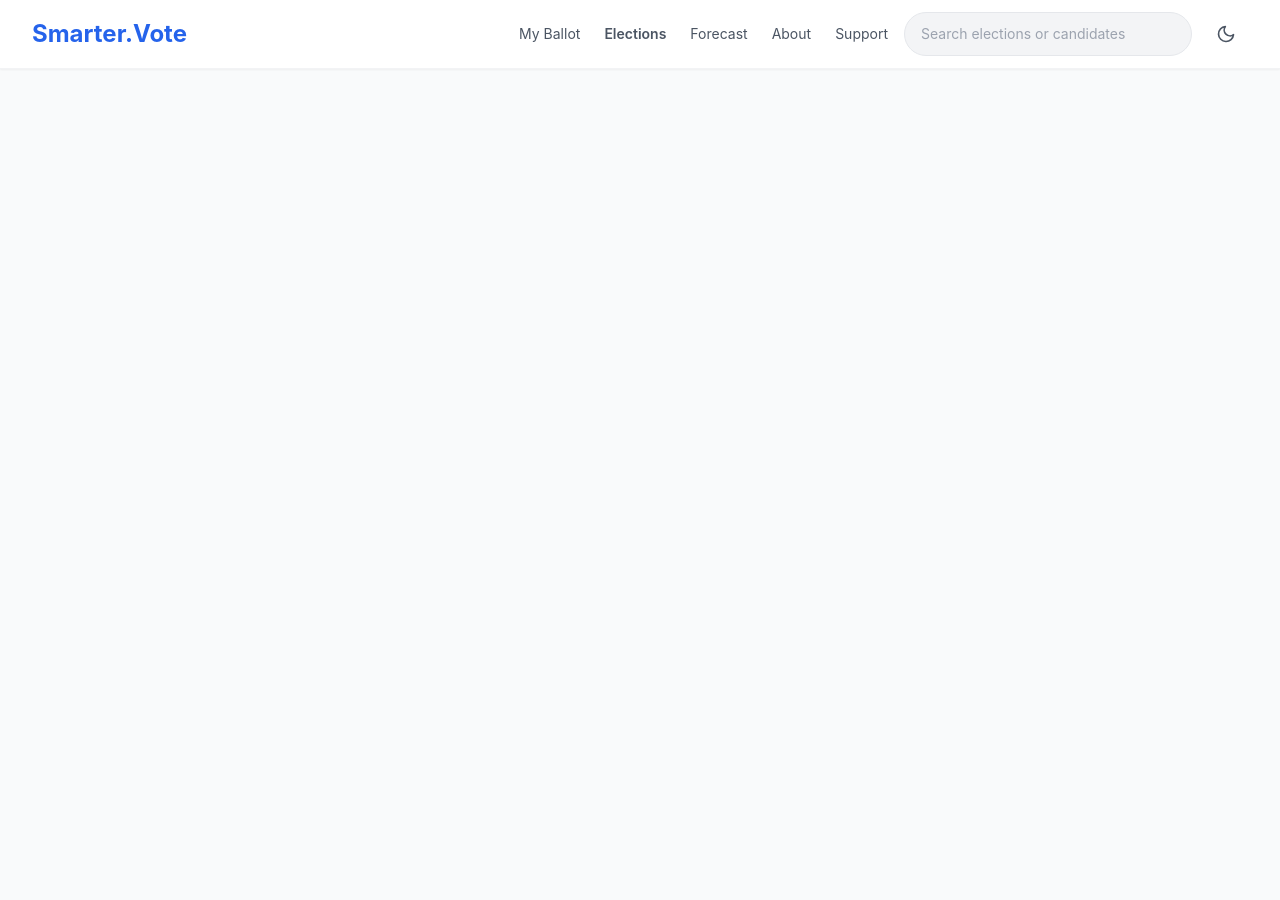
Test case: SiteHeader global shortcuts › closes the results panel on an outside click
Type "Missouri" into the dropdown with id "site-search" at (1048, 34), box [904,12,1192,56]
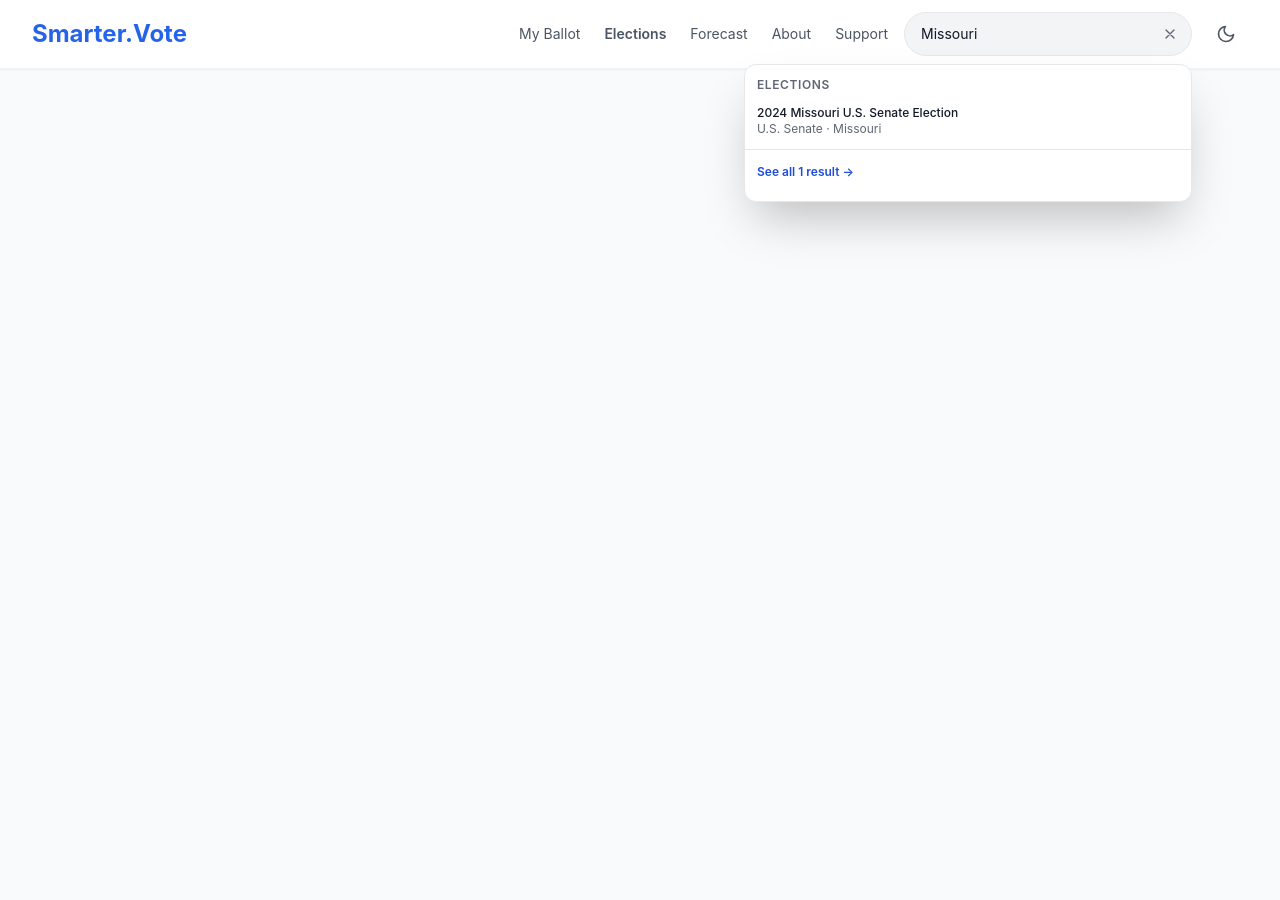
Result: the list with id "site-search-results" is shown at [744,64,1192,202]
Click the element that starts with "Smarter.Vote" at (640, 450), box [0,0,1279,899]
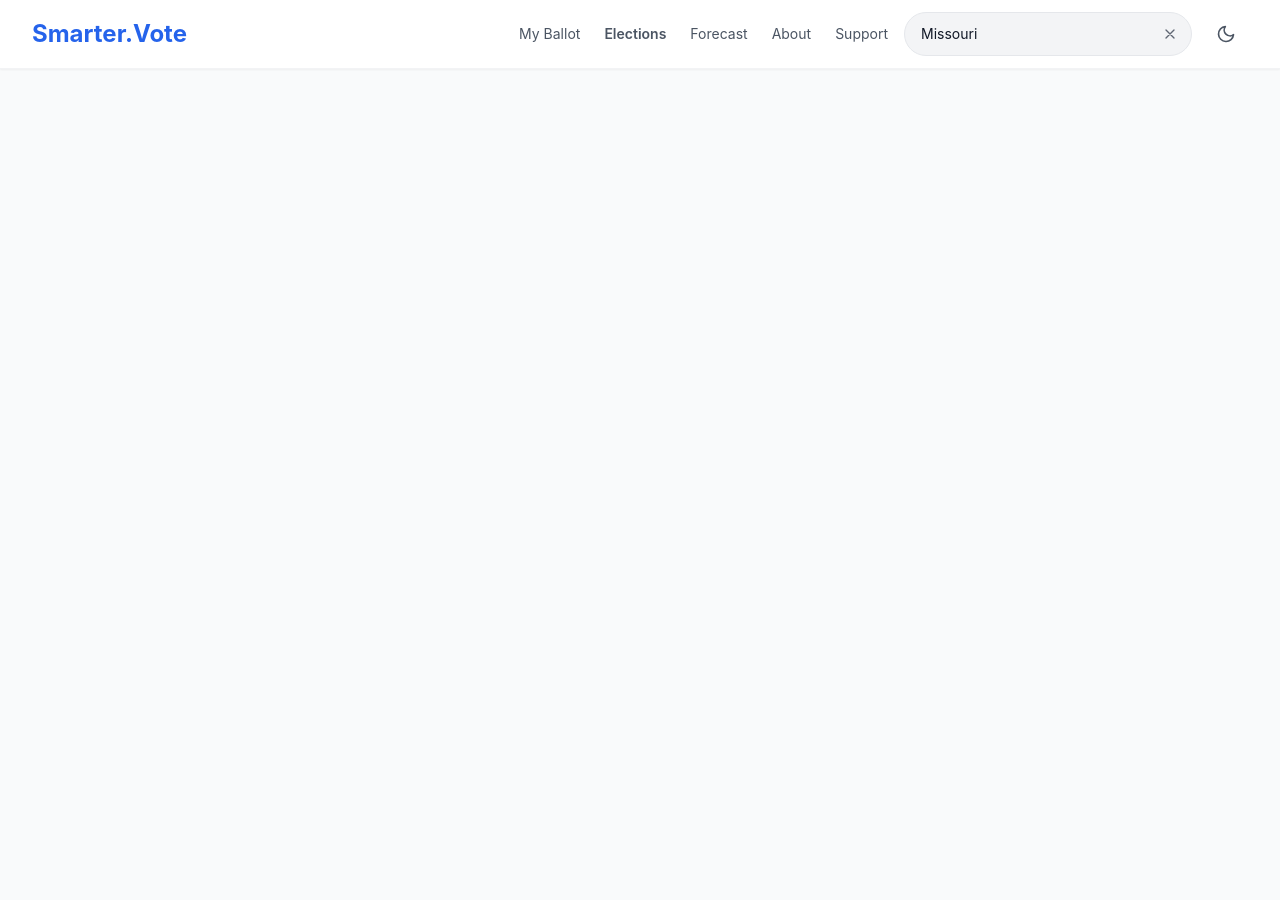
Result: the list with id "site-search-results" is gone
